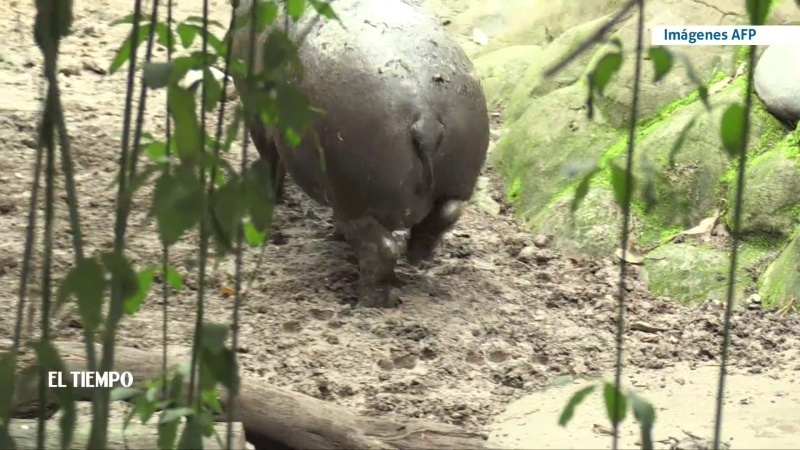hipopotamo: (214, 1, 521, 328)
